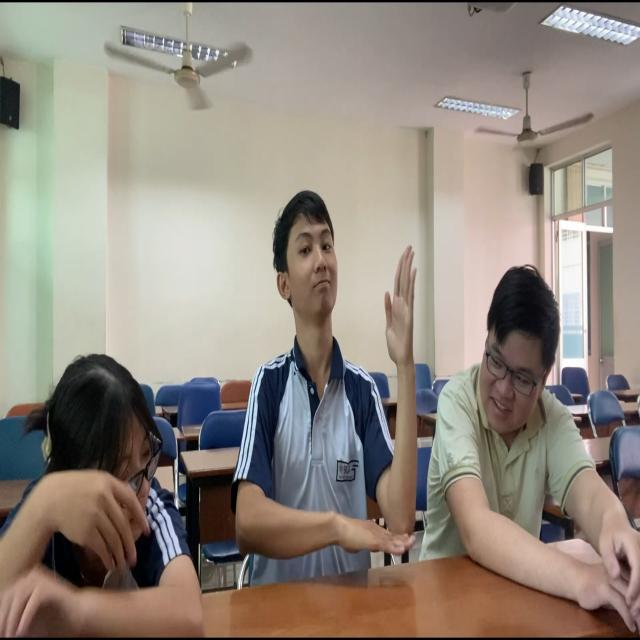raise_hand: (250, 191, 426, 640)
sleep: (1, 312, 218, 639)
